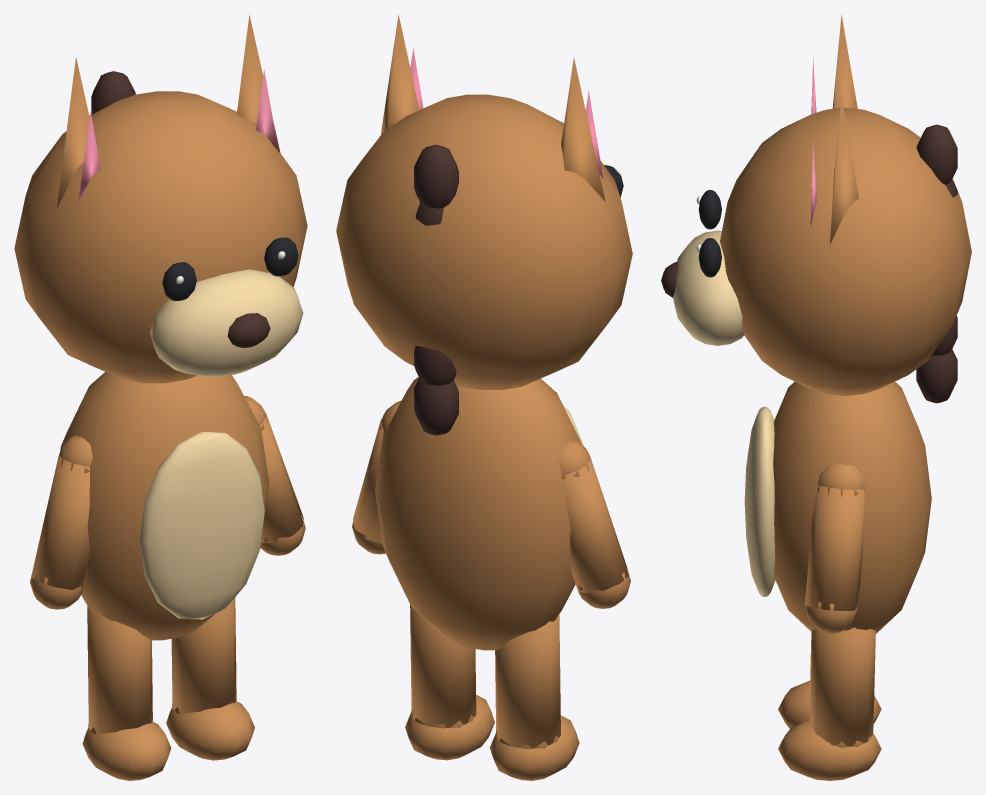
The model's file is mongolian-wild-horse.glb.
The picture shows the model from 3 angles, left to right: view 1: azimuth 30°, elevation 25°; view 2: azimuth 150°, elevation 25°; view 3: azimuth 270°, elevation 25°; orthographic projection. The views are drawn at different scales.
Visible parts, largest first — view 1: Asset.mongolian-wild-horse; view 2: Asset.mongolian-wild-horse; view 3: Asset.mongolian-wild-horse.
Boxes of the visible parts, left/top/right/bottom form: Asset.mongolian-wild-horse: left=14, top=14, right=307, bottom=780; Asset.mongolian-wild-horse: left=336, top=14, right=632, bottom=780; Asset.mongolian-wild-horse: left=661, top=15, right=971, bottom=780.
Size of the model in its own units: 1.8 by 4.63 by 1.86.
